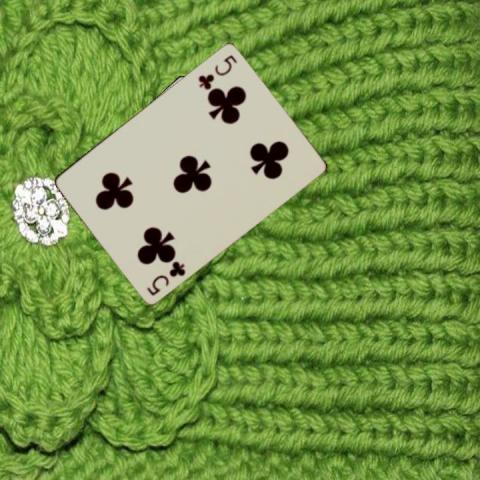5c: (144, 257, 188, 297), (195, 51, 239, 90)
